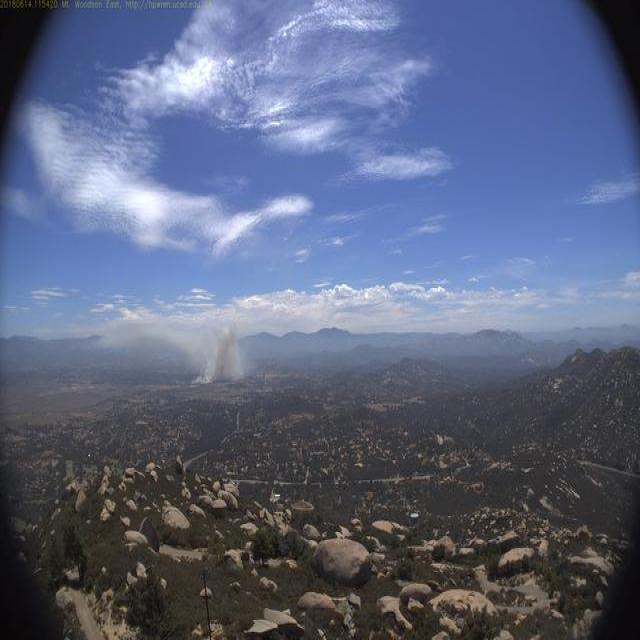smoke: (95, 302, 250, 386)
